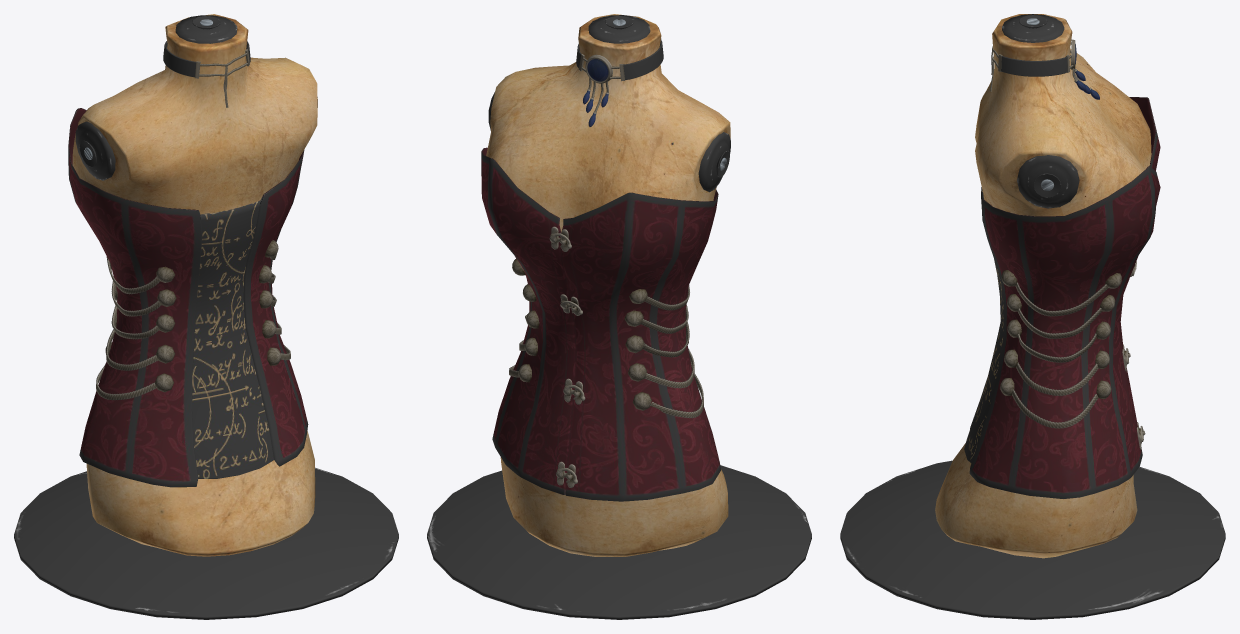
File: Corset.glb
3 views of the same model, side by side, from view 1: azimuth 30°, elevation 25°; view 2: azimuth 150°, elevation 25°; view 3: azimuth 270°, elevation 25° (orthographic).
Parts seen in each view (by area): view 1: Corset; view 2: Corset; view 3: Corset.
Boxes of the visible parts, x1=… form: Corset: x1=14, y1=14, x2=398, y2=619; Corset: x1=427, y1=14, x2=811, y2=619; Corset: x1=840, y1=14, x2=1225, y2=619.
Bounding box in the file's own units: 0.9737 × 1.45 × 0.9737.
1 material, 1 textured.
